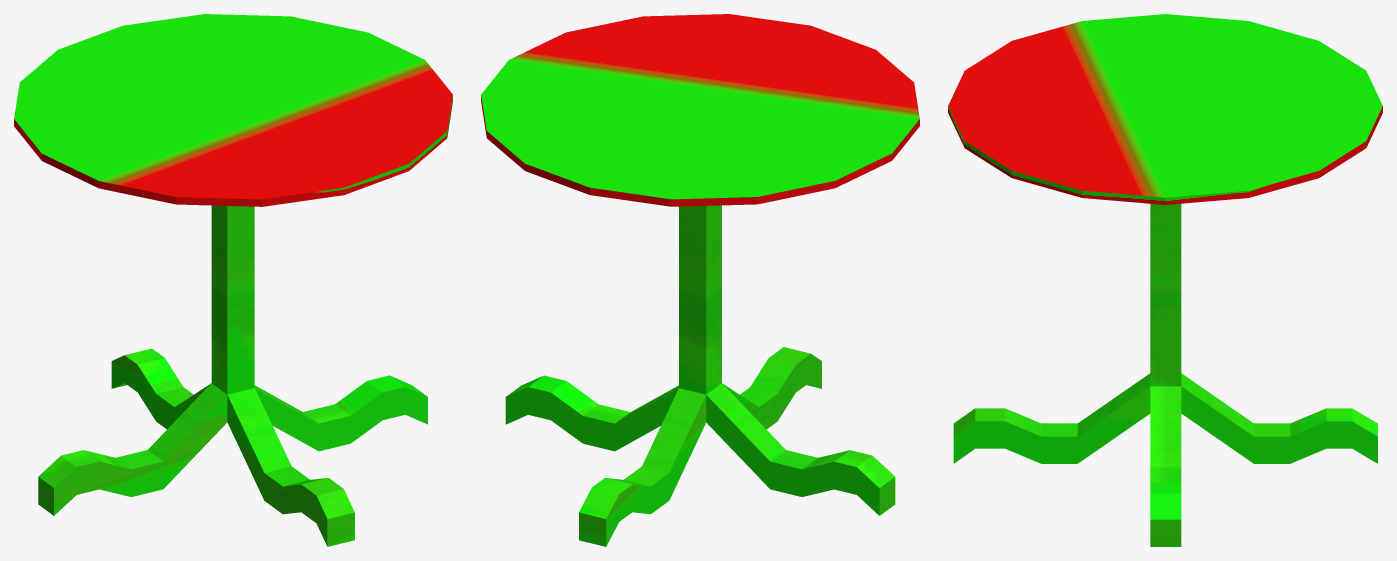
Rendered from Bar_1F_Table.fbx.
3 renders of one model, left to right at view 1: azimuth 30°, elevation 25°; view 2: azimuth 150°, elevation 25°; view 3: azimuth 270°, elevation 25°, orthographic.
Visible parts, largest first — view 1: Cylinder.025; view 2: Cylinder.025; view 3: Cylinder.025.
Boxes of the visible parts, bbox=[...] form: Cylinder.025: bbox=[14, 14, 452, 546]; Cylinder.025: bbox=[481, 14, 919, 546]; Cylinder.025: bbox=[948, 14, 1382, 546].
Bounding box in the file's own units: 69.77 × 62.25 × 69.77.
